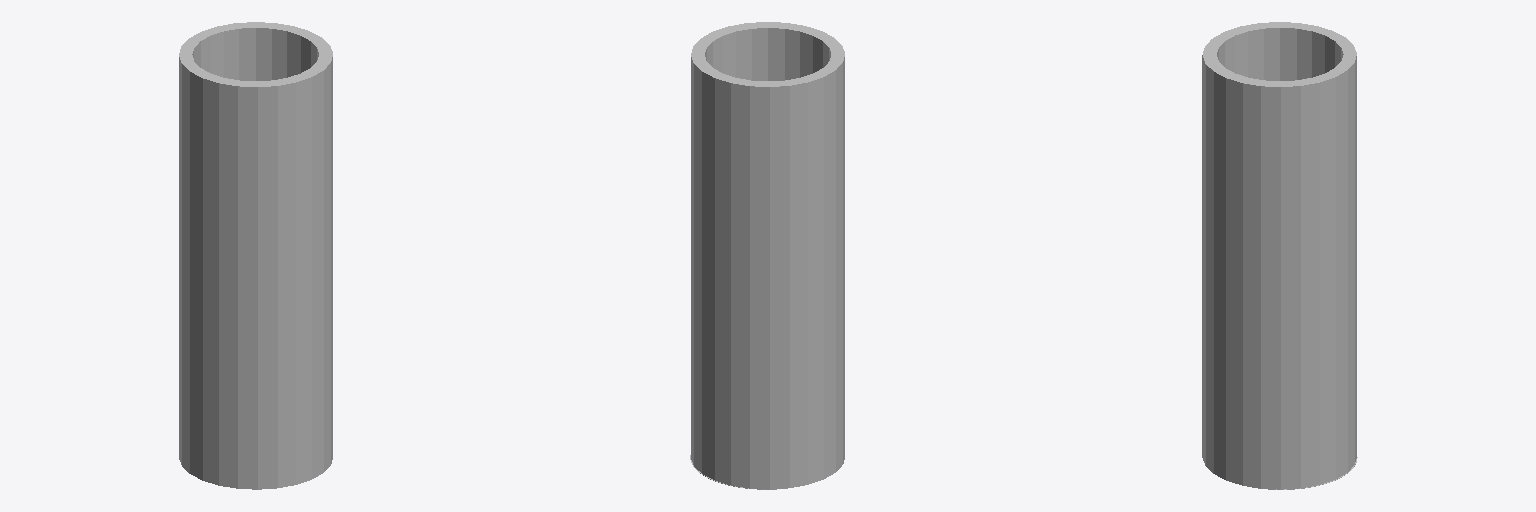
The model's file is cilindro metal.obj.
The picture shows the model from 3 angles: view 1: azimuth 30°, elevation 25°; view 2: azimuth 150°, elevation 25°; view 3: azimuth 270°, elevation 25°; orthographic projection.
Parts seen in each view (by area): view 1: Mesh1 Model; view 2: Mesh1 Model; view 3: Mesh1 Model.
Boxes of the visible parts, box(x1,y1,x2,y2) form: Mesh1 Model: box(179, 22, 332, 489); Mesh1 Model: box(690, 22, 844, 489); Mesh1 Model: box(1202, 22, 1357, 489).
Bounding box in the file's own units: 1.22 × 3.5 × 1.22.